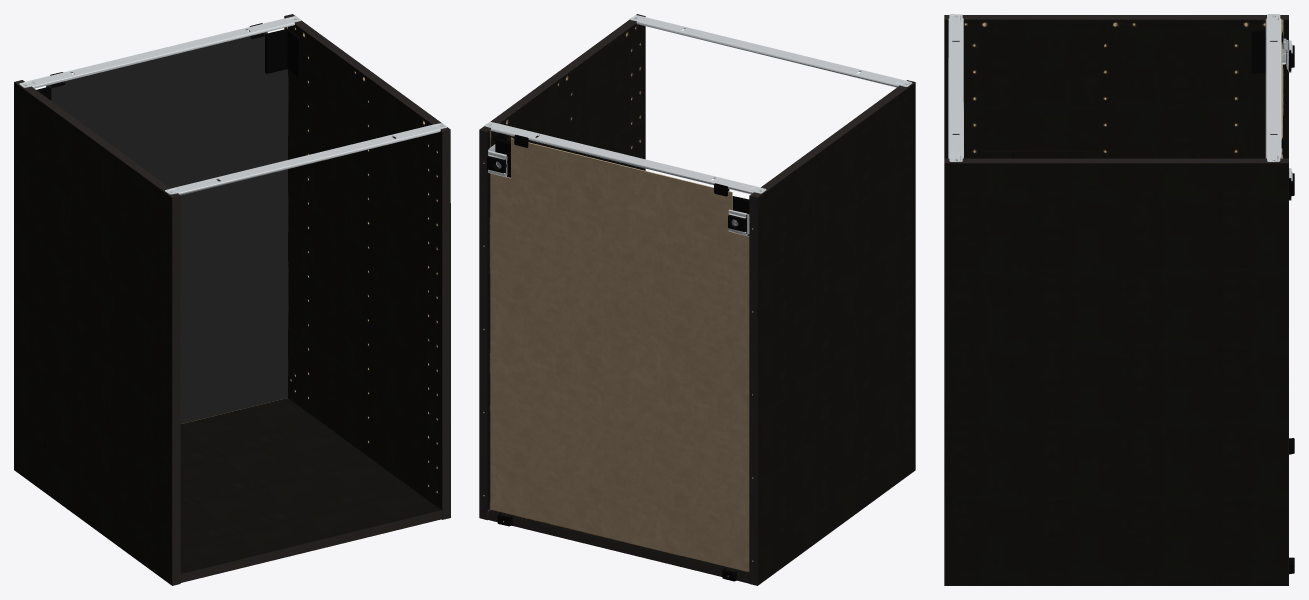
Rendered from metod_szafka_stojaca_60591702.glb.
The picture shows the model from 3 angles, left to right: view 1: azimuth 30°, elevation 25°; view 2: azimuth 150°, elevation 25°; view 3: azimuth 270°, elevation 25°; orthographic projection. The views are drawn at different scales.
Visible parts, largest first — view 1: metod_szafka_stojaca_60591702; view 2: metod_szafka_stojaca_60591702; view 3: metod_szafka_stojaca_60591702.
Part boxes in pixels (x1,y1,x2,y2): metod_szafka_stojaca_60591702: [14, 14, 450, 585]; metod_szafka_stojaca_60591702: [479, 14, 915, 585]; metod_szafka_stojaca_60591702: [944, 14, 1294, 585].
Bounding box in the file's own units: 0.6 × 0.8022 × 0.6001.
1 material, 1 textured.
